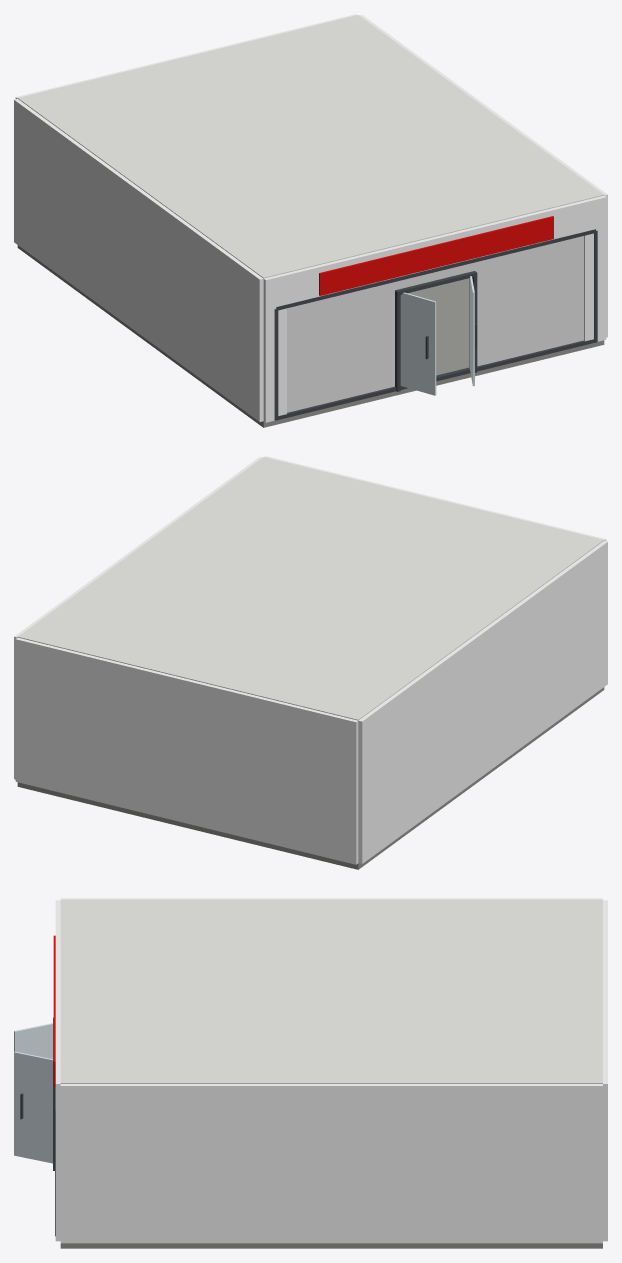
3 renders of one model, top to bottom at view 1: azimuth 30°, elevation 25°; view 2: azimuth 150°, elevation 25°; view 3: azimuth 270°, elevation 25°, orthographic. The views are drawn at different scales.
Visible parts, largest first — view 1: Ceiling, Wall_Left, Glass_Right, Glass_Left, Floor_Main, Front_Sign, Front_Top, Door_Left.001, Front_Column_l, Front_Column_R, Front_Frame_Bottom, Front_Frame_Top (+6 smaller); view 2: Ceiling, Wall_Back, Wall_Left, Floor_Main, Wall_Right, Front_Top; view 3: Ceiling, Wall_Right, Door_Right, Floor_Main, Wall_Back, Front_Top, Door_Left.001, Wall_Left, Front_Column_R.
Part boxes in pixels (x1,y1,x2,y2): Ceiling: (17, 15, 604, 278); Wall_Left: (14, 99, 263, 421); Glass_Right: (469, 236, 583, 367); Glass_Left: (287, 281, 399, 412); Floor_Main: (17, 245, 604, 427); Front_Sign: (319, 216, 553, 295); Front_Top: (263, 197, 606, 308); Door_Left.001: (400, 292, 436, 395); Front_Column_l: (263, 273, 286, 422); Front_Column_R: (583, 195, 606, 341); Front_Frame_Bottom: (276, 339, 595, 420); Front_Frame_Top: (276, 229, 595, 310); Ceiling: (17, 457, 604, 720); Wall_Back: (15, 637, 358, 864); Wall_Left: (358, 541, 607, 863); Floor_Main: (17, 687, 604, 869); Wall_Right: (14, 457, 262, 779); Front_Top: (286, 461, 584, 534); Ceiling: (60, 899, 602, 1083); Wall_Right: (60, 1084, 602, 1243); Door_Right: (14, 1051, 52, 1163); Floor_Main: (60, 1243, 602, 1248); Wall_Back: (603, 900, 607, 1241); Front_Top: (55, 912, 60, 1117); Door_Left.001: (14, 1023, 52, 1059); Wall_Left: (60, 898, 602, 899); Front_Column_R: (55, 1072, 60, 1241).
Size of the model in its own units: 8.18 by 3.37 by 10.95.
